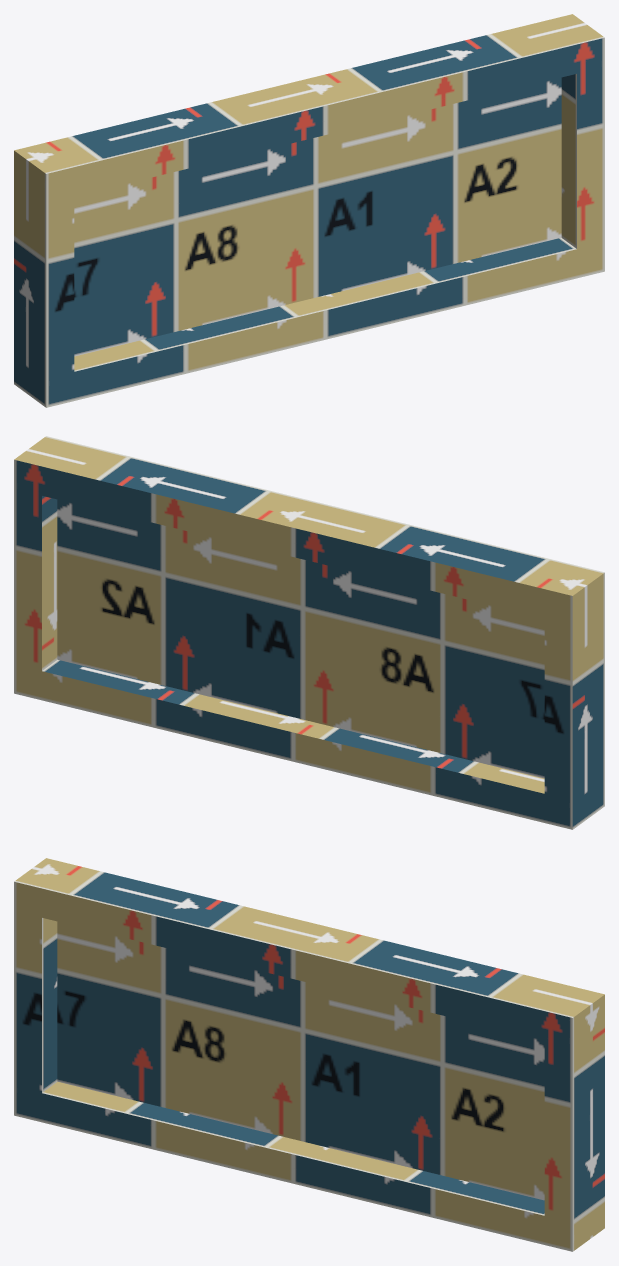
File: LIGHT_ExitSignHousing.fbx
The picture shows the model from 3 angles, top to bottom: view 1: azimuth 30°, elevation 25°; view 2: azimuth 150°, elevation 25°; view 3: azimuth 330°, elevation 25°; orthographic projection.
Visible parts, largest first — view 1: LIGHT_ExitSignHousing; view 2: LIGHT_ExitSignHousing; view 3: LIGHT_ExitSignHousing.
Boxes of the visible parts, box(x1,y1,x2,y2) form: LIGHT_ExitSignHousing: box(14, 14, 604, 407); LIGHT_ExitSignHousing: box(14, 436, 604, 829); LIGHT_ExitSignHousing: box(14, 858, 604, 1251).
Size of the model in its own units: 100 by 40 by 10.
2 materials, 2 textured.
